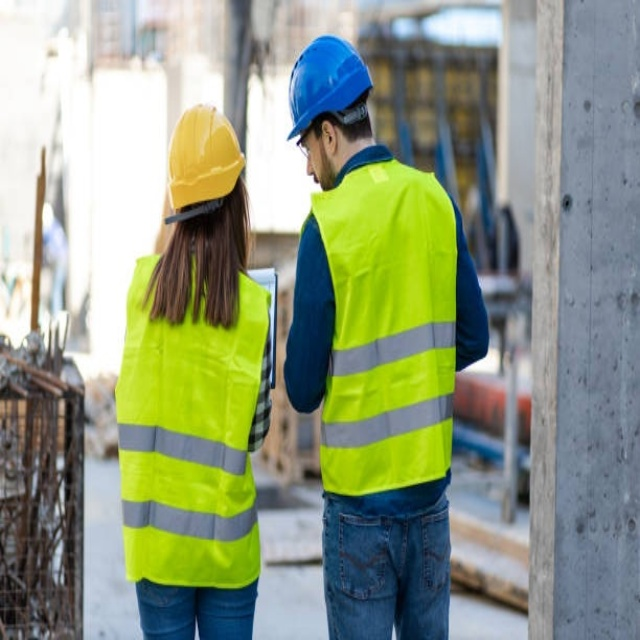Gafas: (294, 127, 318, 160)
Sin_mascara: (307, 163, 328, 190)
